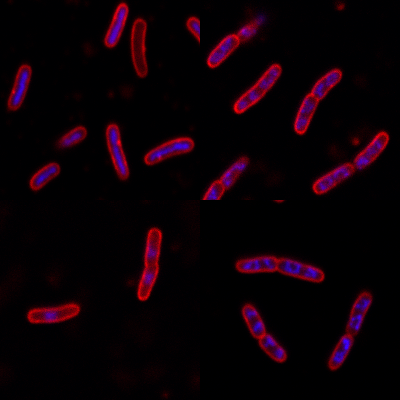Control: (311, 130, 389, 195), (328, 291, 373, 370), (292, 68, 343, 136), (239, 303, 288, 365), (231, 63, 283, 115), (233, 255, 325, 283)
Nalidixate: (134, 227, 163, 301), (25, 302, 81, 324)
Oblique: (205, 14, 266, 71), (54, 124, 87, 151)
Rifampicin: (143, 135, 195, 167), (105, 124, 131, 181), (102, 1, 130, 48), (6, 64, 32, 110), (28, 160, 62, 193)
